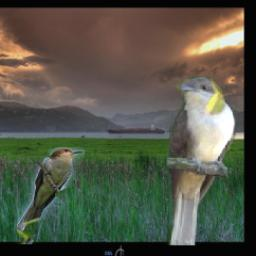Cuckoo: (164, 77, 235, 246), (17, 148, 85, 245)
